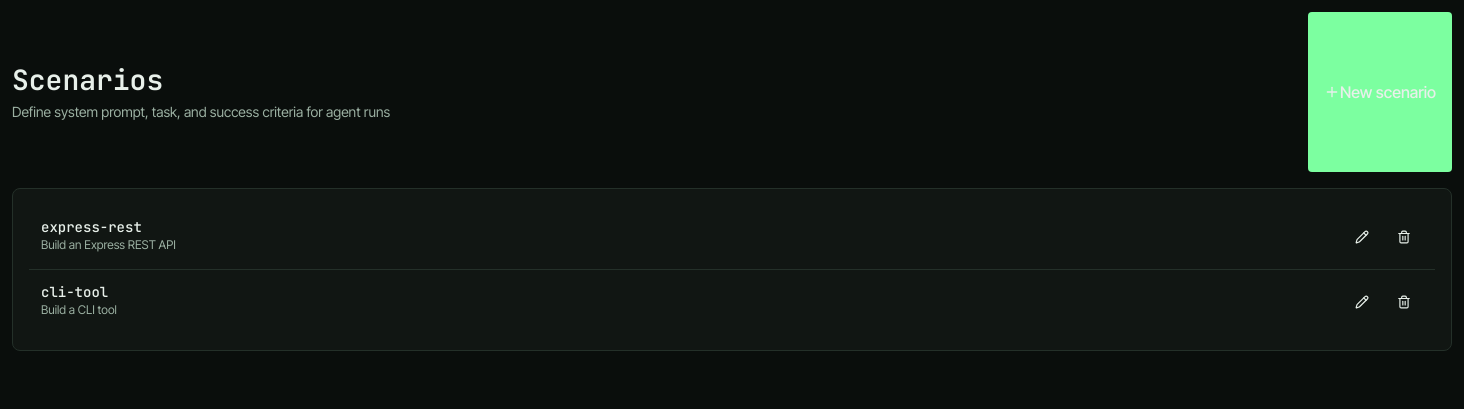
it: Scenarios › surfaces scenario delete failures
Expected: the text "express-rest" is shown, x1=41 y1=218 x2=142 y2=236
Click the button named "Delete express-rest" at (1404, 237), box x1=1385 y1=221 x2=1423 y2=253
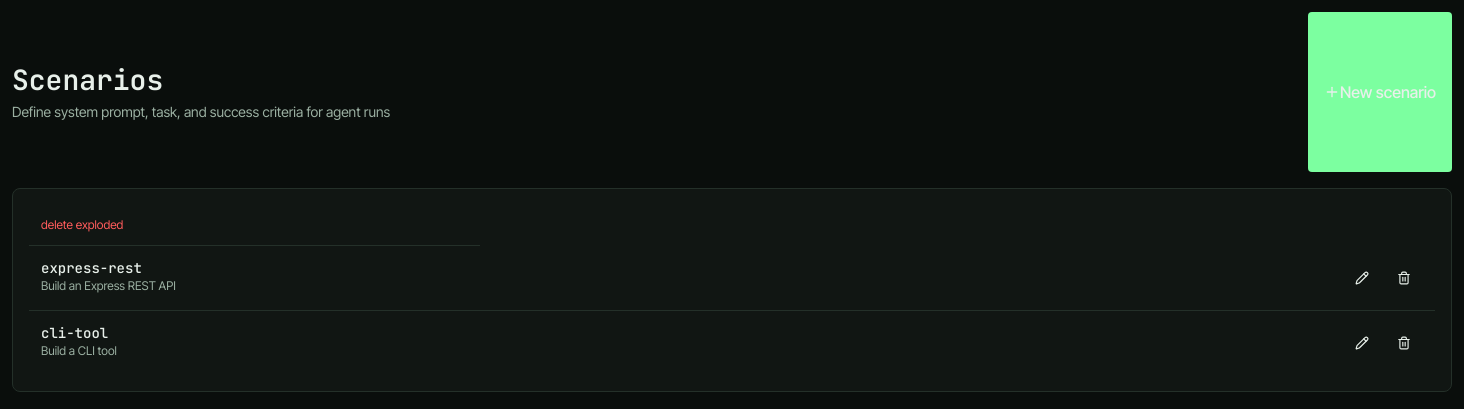
Result: the message reads "delete exploded" at x1=41 y1=217 x2=123 y2=232
